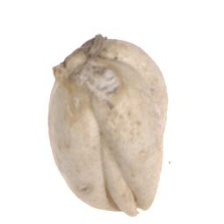L1: (100, 162, 151, 217), (51, 36, 107, 75)
L2: (48, 37, 168, 215)
